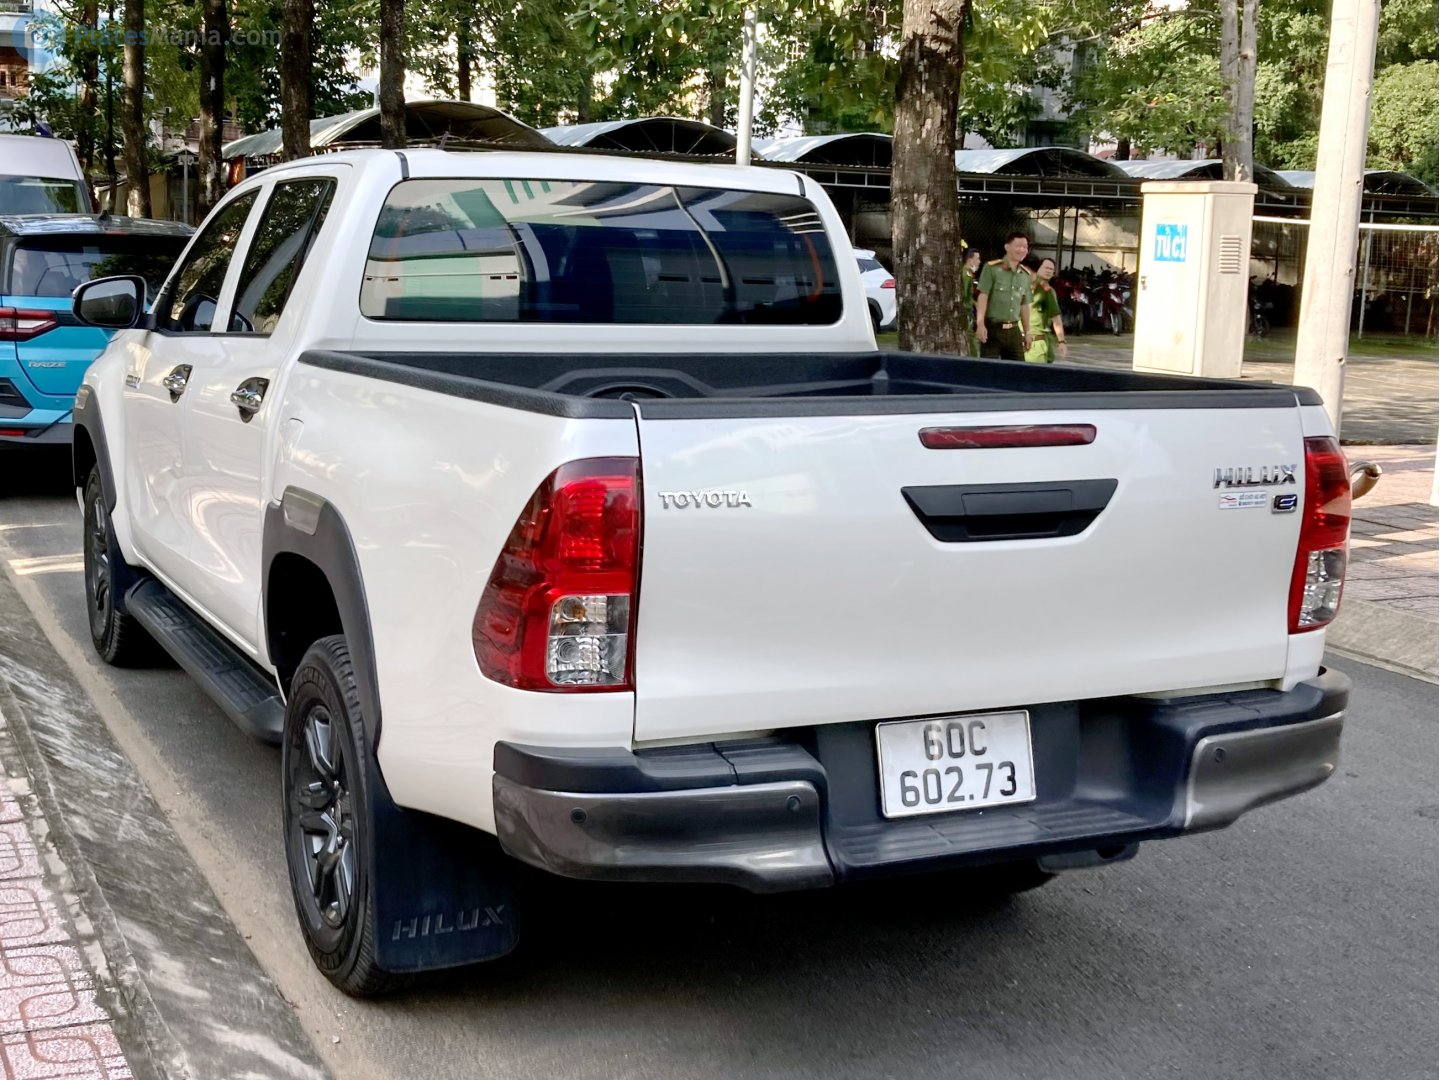bien_so: (877, 711, 1037, 816)
